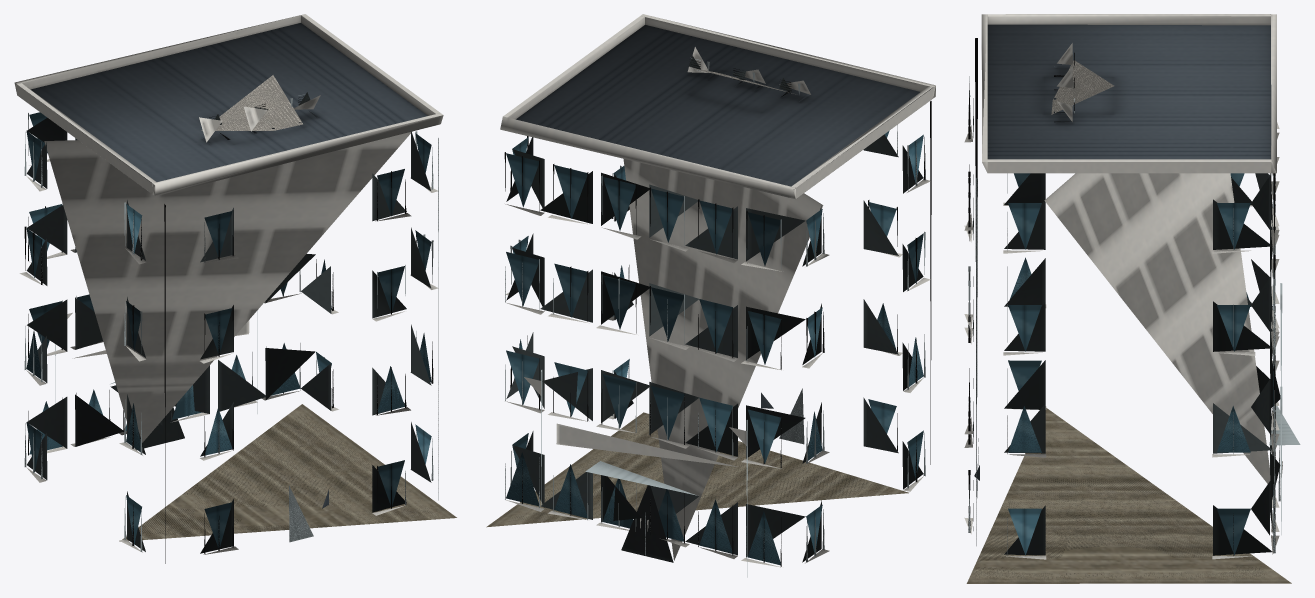
File: public_008.lod2.obj
3 views of the same model, side by side, from view 1: azimuth 30°, elevation 25°; view 2: azimuth 150°, elevation 25°; view 3: azimuth 270°, elevation 25° (orthographic). The views are drawn at different scales.
Parts seen in each view (by area): view 1: public_008; view 2: public_008; view 3: public_008.
Part boxes in pixels (x1,y1,x2,y2): public_008: (14,14,456,563); public_008: (486,14,935,577); public_008: (964,14,1300,583).
Size of the model in its own units: 10.1 by 13.46 by 9.32.
1 material, 1 textured.
